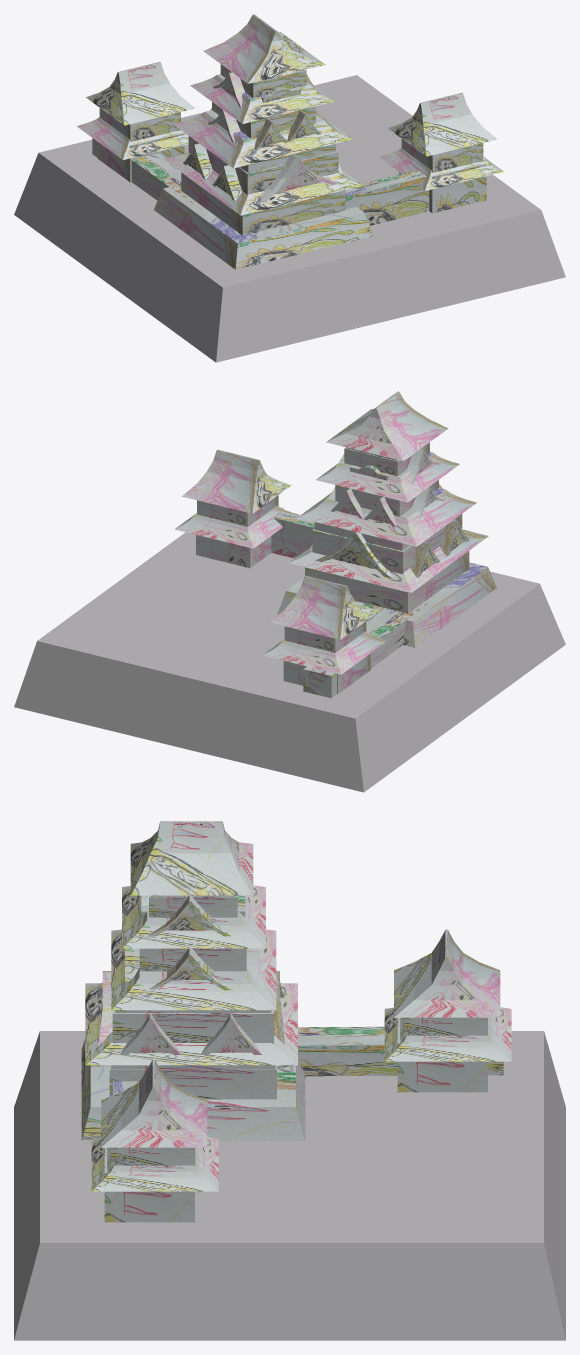
Rendered from ozu-castle-3d-kids.glb.
The picture shows the model from 3 angles, top to bottom: view 1: azimuth 30°, elevation 25°; view 2: azimuth 150°, elevation 25°; view 3: azimuth 270°, elevation 25°; orthographic projection. The views are drawn at different scales.
Parts seen in each view (by area): view 1: 立方体; view 2: 立方体; view 3: 立方体.
Boxes of the visible parts, x1=… form: 立方体: x1=14, y1=14, x2=565, y2=362; 立方体: x1=14, y1=391, x2=565, y2=792; 立方体: x1=14, y1=821, x2=565, y2=1340.
Size of the model in its own units: 9.91 by 7.16 by 9.91.
Materials: 1 (1 with a texture image).
